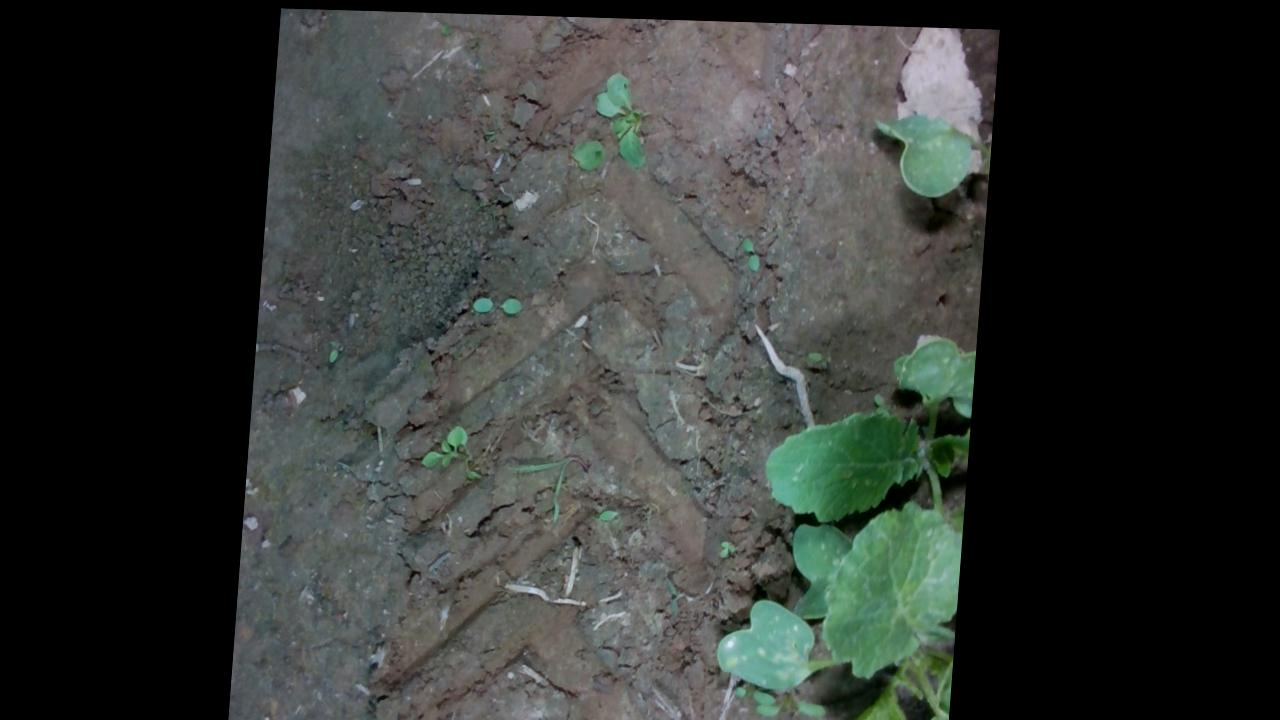weed: (476, 289, 531, 311), (745, 231, 767, 266), (812, 344, 840, 361), (726, 534, 748, 555)
